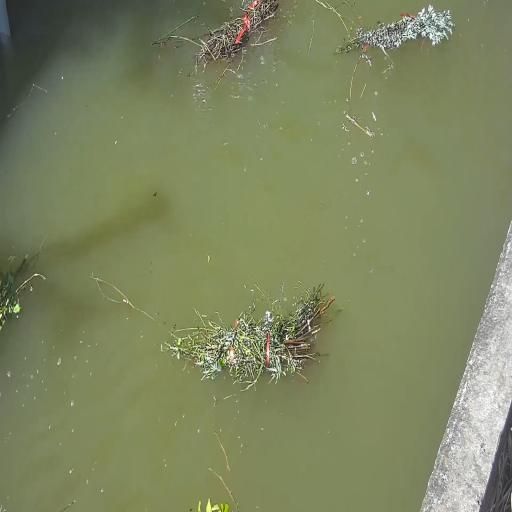twig: (178, 279, 324, 386), (338, 0, 464, 68), (179, 0, 280, 78), (0, 248, 54, 327), (184, 480, 246, 512)
